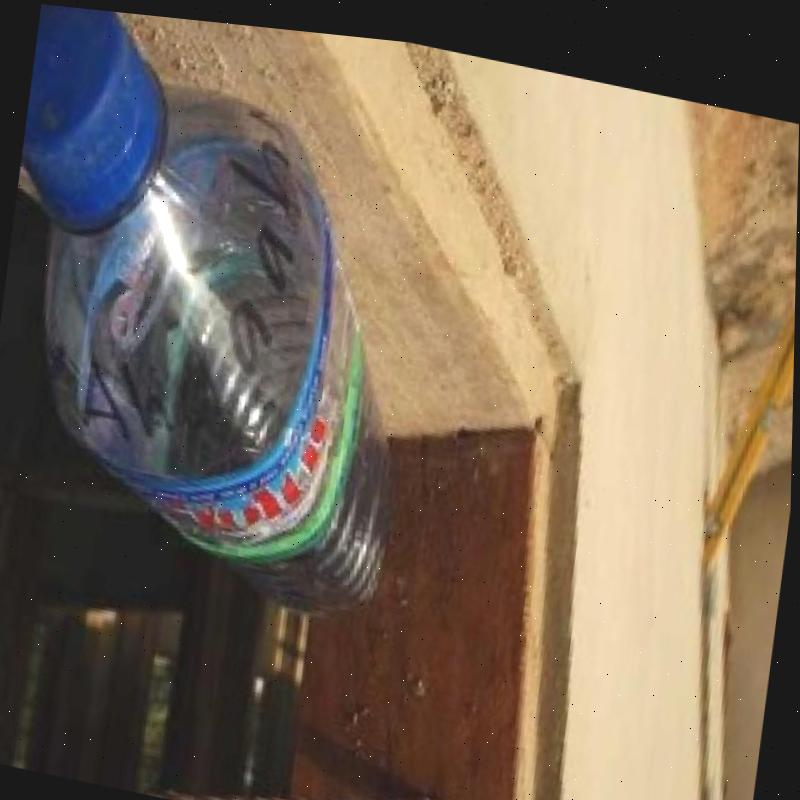botella: (0, 0, 446, 625)
